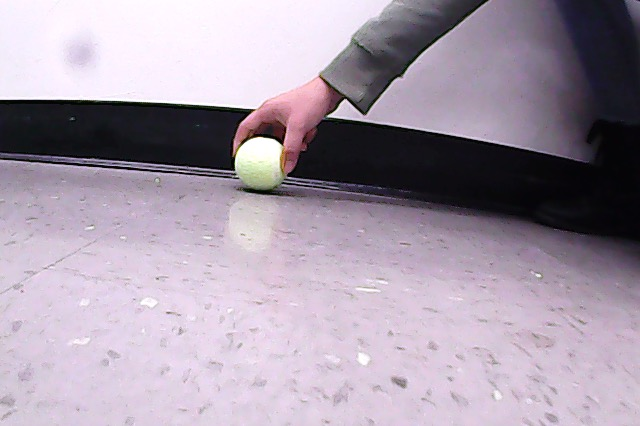ball: (235, 138, 288, 189)
